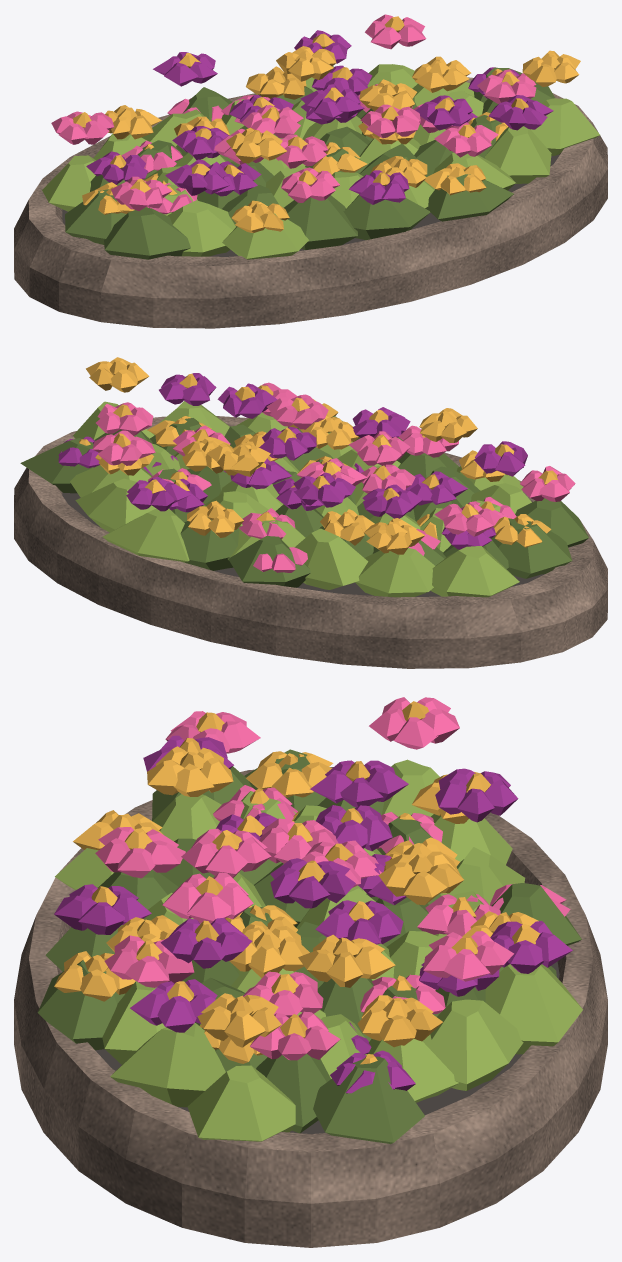
File: azalea-bed.glb
The picture shows the model from 3 angles, top to bottom: view 1: azimuth 30°, elevation 25°; view 2: azimuth 150°, elevation 25°; view 3: azimuth 270°, elevation 25°; orthographic projection. The views are drawn at different scales.
Visible parts, largest first — view 1: azalea-bed · Garden border sandstone, azalea-bed · Apple leaves, azalea-bed · Azalea · marigold, azalea-bed · Sage leaves, azalea-bed · Azalea · violet, azalea-bed · Azalea · rose, azalea-bed · Garden earth; view 2: azalea-bed · Garden border sandstone, azalea-bed · Apple leaves, azalea-bed · Azalea · marigold, azalea-bed · Sage leaves, azalea-bed · Azalea · violet, azalea-bed · Azalea · rose, azalea-bed · Garden earth; view 3: azalea-bed · Garden border sandstone, azalea-bed · Apple leaves, azalea-bed · Azalea · marigold, azalea-bed · Azalea · rose, azalea-bed · Sage leaves, azalea-bed · Azalea · violet, azalea-bed · Garden earth.
Part boxes in pixels (x1,y1,x2,y2): azalea-bed · Garden border sandstone: [14, 77, 607, 328]; azalea-bed · Apple leaves: [42, 64, 599, 259]; azalea-bed · Azalea · marigold: [72, 16, 580, 232]; azalea-bed · Sage leaves: [65, 67, 554, 259]; azalea-bed · Azalea · violet: [86, 30, 553, 204]; azalea-bed · Azalea · rose: [51, 14, 536, 214]; azalea-bed · Garden earth: [62, 154, 559, 256]; azalea-bed · Garden border sandstone: [14, 416, 607, 668]; azalea-bed · Apple leaves: [70, 401, 531, 597]; azalea-bed · Azalea · marigold: [79, 357, 557, 554]; azalea-bed · Sage leaves: [20, 416, 588, 587]; azalea-bed · Azalea · violet: [58, 373, 527, 549]; azalea-bed · Azalea · rose: [92, 382, 575, 572]; azalea-bed · Garden earth: [62, 492, 544, 596]; azalea-bed · Garden border sandstone: [14, 767, 607, 1247]; azalea-bed · Apple leaves: [55, 759, 582, 1141]; azalea-bed · Azalea · marigold: [54, 701, 540, 1064]; azalea-bed · Azalea · rose: [95, 697, 570, 1060]; azalea-bed · Sage leaves: [37, 749, 581, 1144]; azalea-bed · Azalea · violet: [54, 735, 572, 1093]; azalea-bed · Garden earth: [95, 961, 559, 1133].
Size of the model in its own units: 2.76 by 0.7051 by 1.7.
7 materials, 1 textured.
